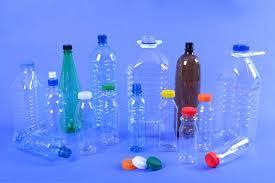Plastic bottle: (215, 41, 266, 134), (126, 36, 156, 128), (10, 61, 45, 125), (14, 124, 74, 161), (58, 42, 81, 122), (201, 134, 255, 168), (171, 37, 198, 104), (86, 31, 117, 82), (96, 82, 119, 147), (75, 90, 99, 152), (154, 90, 179, 149), (125, 83, 146, 150), (176, 103, 198, 162), (195, 92, 218, 148), (45, 72, 62, 126)
